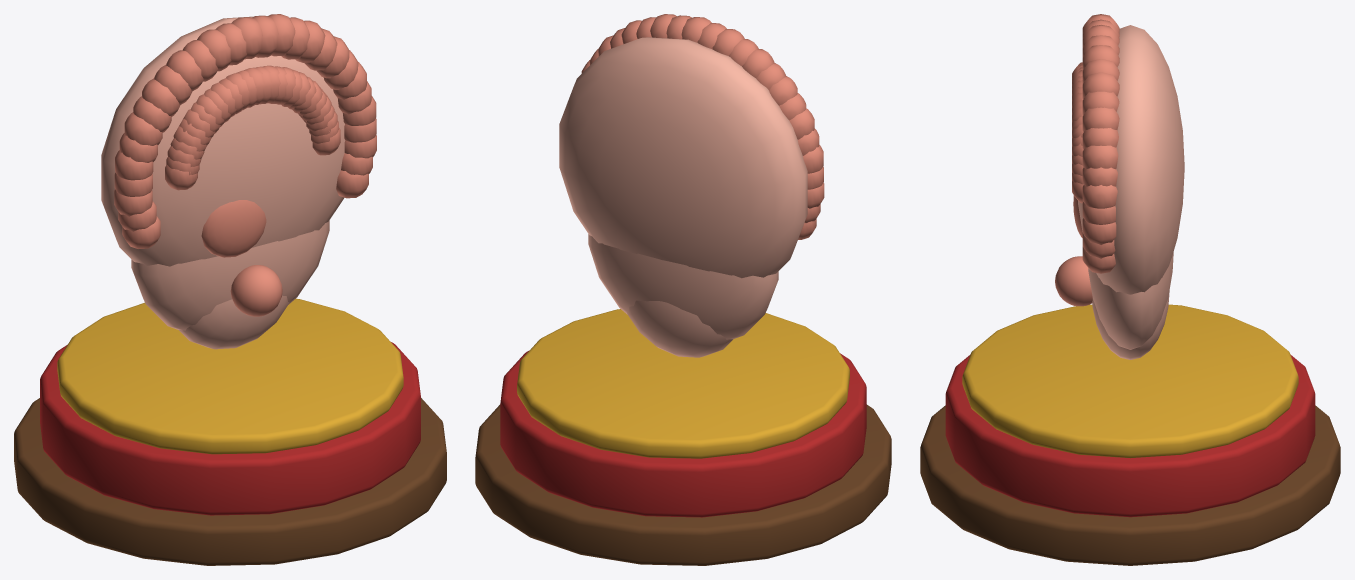
File: ear_jar.glb
3 views of the same model, side by side, from view 1: azimuth 30°, elevation 25°; view 2: azimuth 150°, elevation 25°; view 3: azimuth 270°, elevation 25° (orthographic). The views are drawn at different scales.
Parts seen in each view (by area): view 1: ear_jar; view 2: ear_jar; view 3: ear_jar.
Boxes of the visible parts, box(x1,y1,x2,y2) form: ear_jar: box(14, 14, 446, 565); ear_jar: box(475, 14, 891, 565); ear_jar: box(920, 14, 1340, 565).
Bounding box in the file's own units: 1 × 1.19 × 1.
